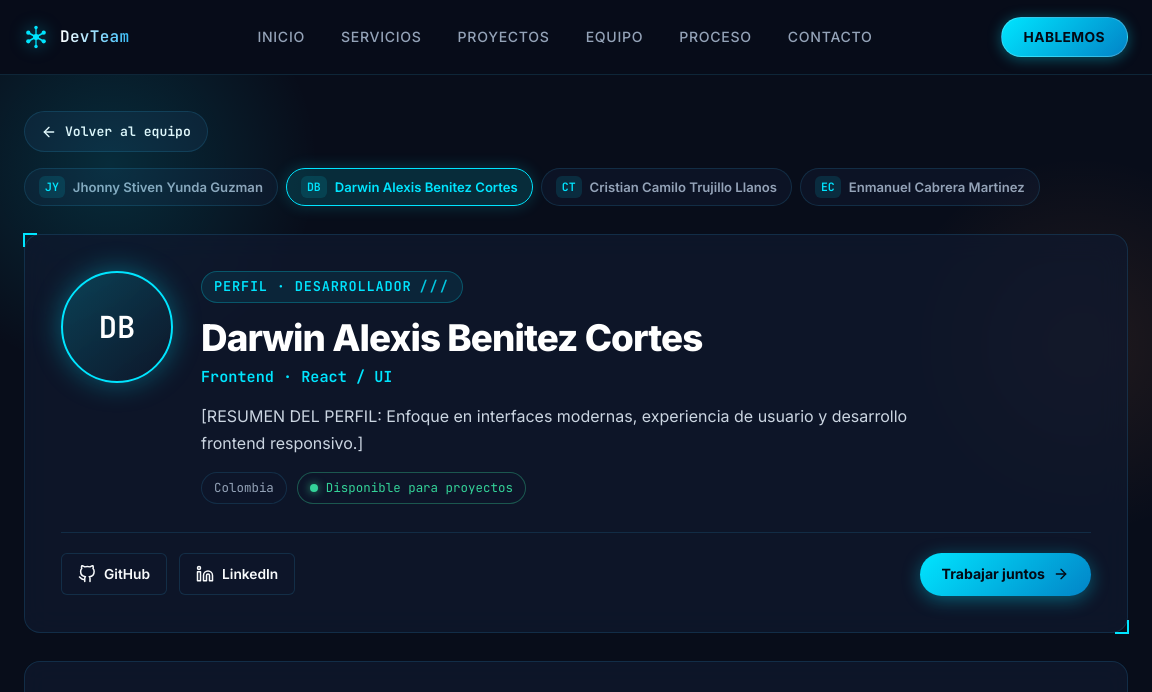
renders dedicated developer profile when ?dev query param is present and switches between members in-page
Expected: the heading "Darwin Alexis Benitez Cortes" is shown, left=201, top=315, right=702, bottom=360
Click the link "CT Cristian Camilo Trujillo Llanos": {"x": 666, "y": 187} left=541, top=168, right=792, bottom=206
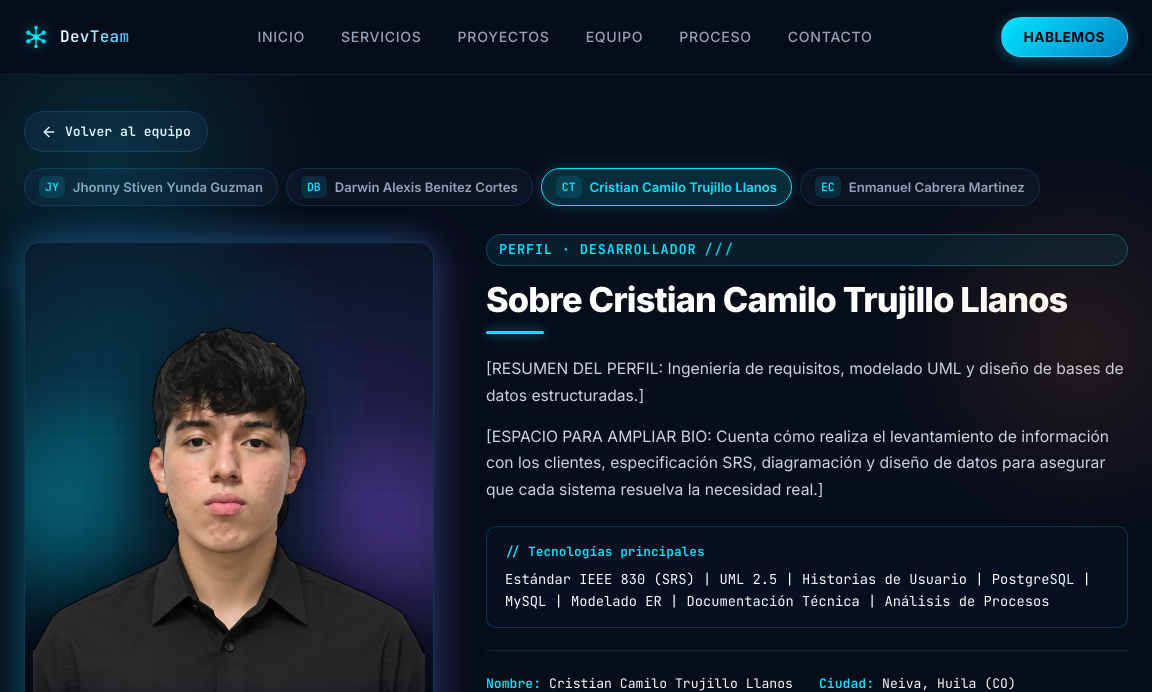
Expected: the heading "Sobre Cristian Camilo Trujillo Llanos" is shown, left=486, top=280, right=1128, bottom=319
Expected: the text "// Tecnologías principales" is shown, left=505, top=543, right=705, bottom=560
